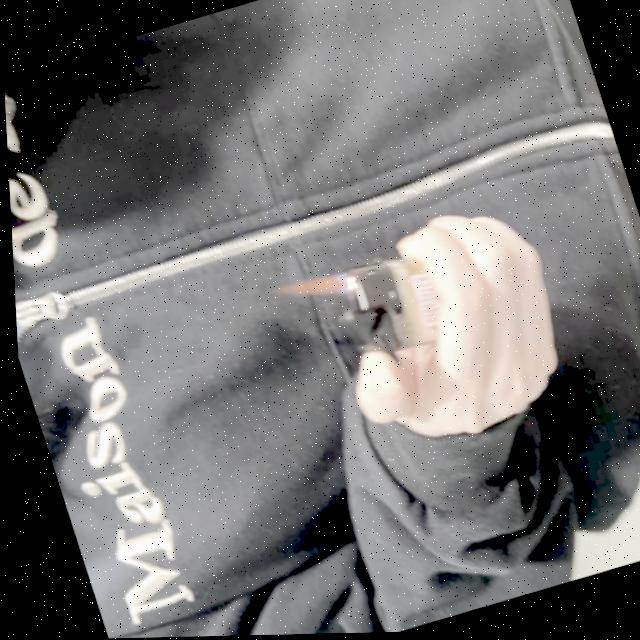Fire: (269, 269, 356, 313)
